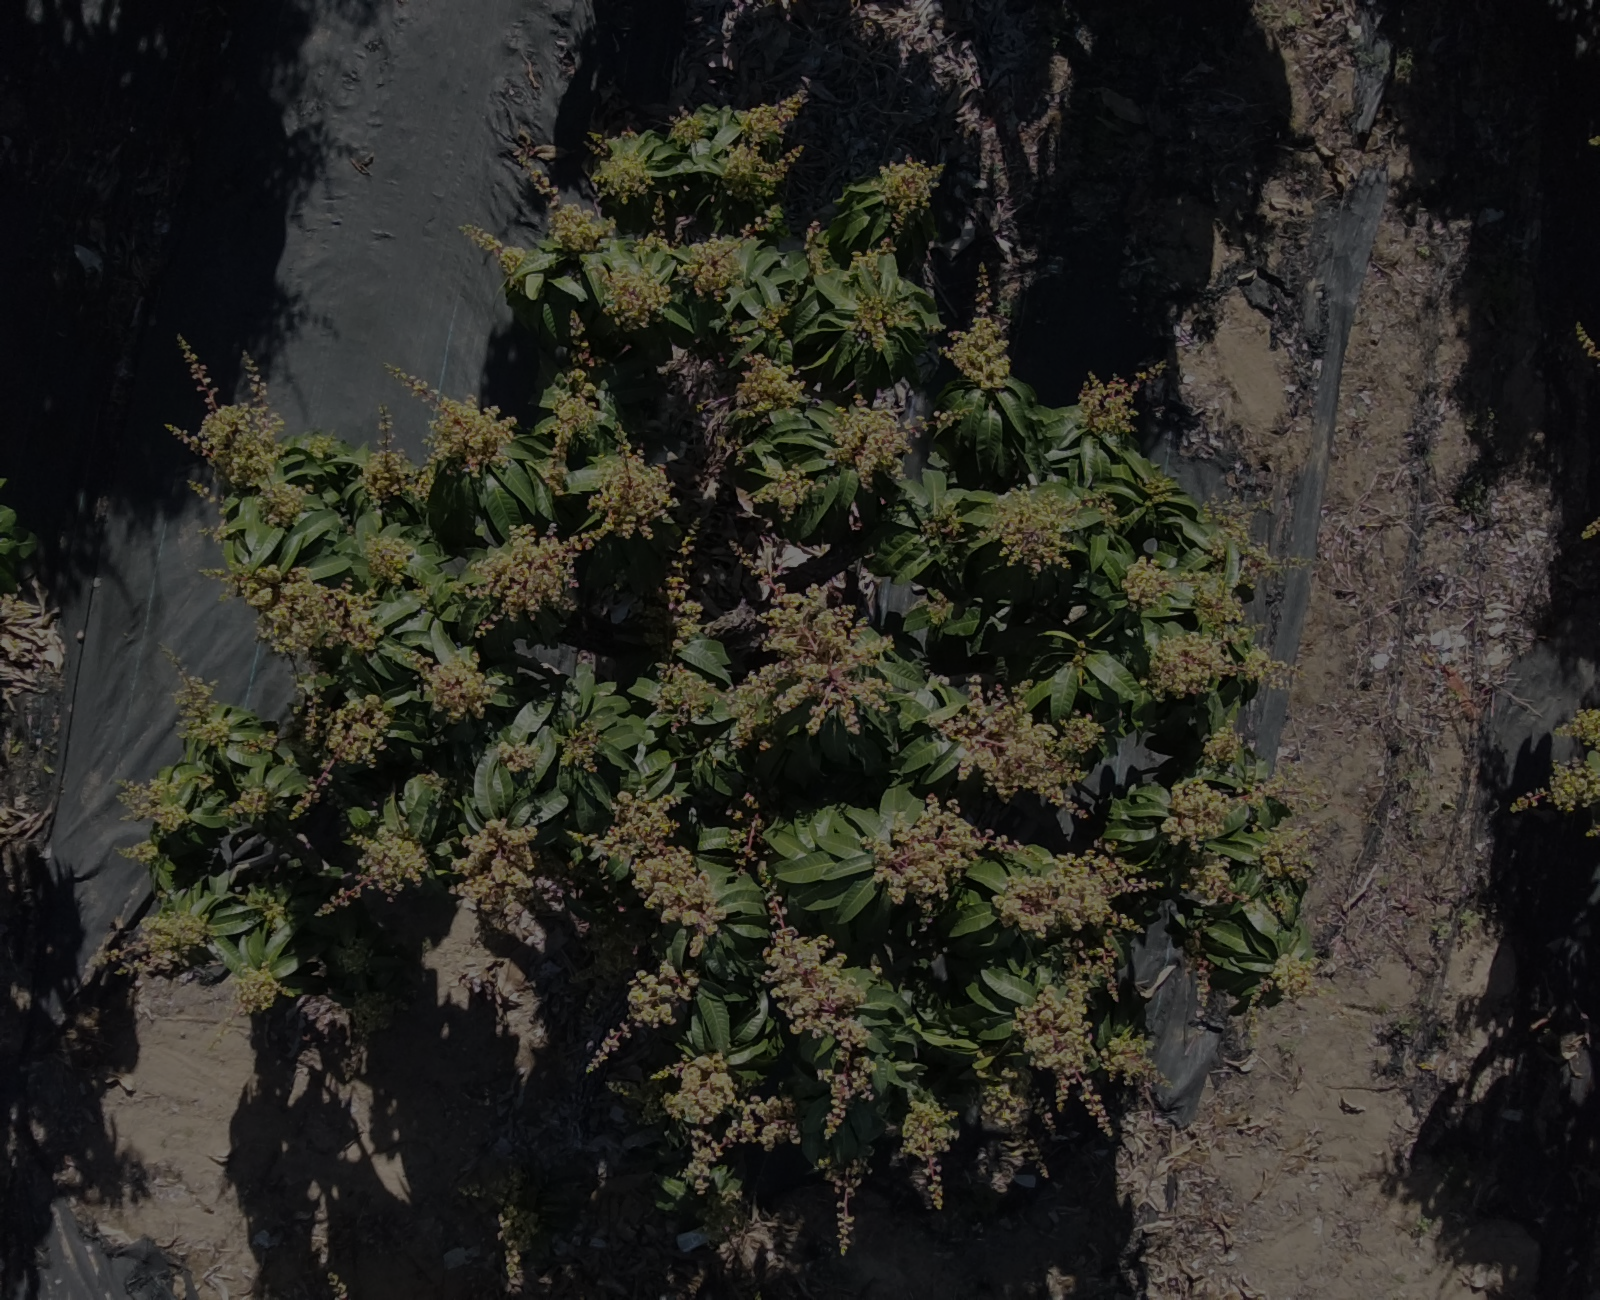flowers: (471, 446, 675, 619), (726, 581, 892, 749), (170, 337, 302, 524), (763, 925, 873, 1138), (580, 791, 723, 952), (939, 677, 1102, 809), (1014, 980, 1156, 1132), (1122, 558, 1275, 696), (651, 1053, 797, 1193), (386, 363, 515, 497), (872, 795, 1018, 913), (214, 565, 379, 653), (992, 852, 1148, 937), (586, 960, 697, 1073), (291, 692, 391, 814), (513, 130, 612, 252), (988, 486, 1117, 572), (831, 387, 927, 488), (320, 824, 429, 913), (540, 310, 598, 470), (720, 92, 805, 200), (1162, 777, 1282, 846), (588, 446, 675, 539), (945, 265, 1010, 387), (980, 1071, 1045, 1193), (452, 820, 535, 913), (101, 911, 210, 972), (901, 1093, 957, 1208), (1077, 362, 1164, 434), (732, 533, 828, 597), (496, 1167, 540, 1289), (423, 653, 496, 720), (877, 157, 941, 227), (1510, 760, 1597, 811), (601, 267, 669, 330), (590, 133, 653, 202), (174, 671, 230, 746), (825, 1158, 868, 1254), (736, 354, 803, 414), (655, 662, 716, 726), (117, 775, 187, 829), (850, 294, 914, 352), (728, 791, 766, 883), (685, 236, 740, 296), (754, 463, 815, 517), (175, 334, 218, 410), (460, 226, 525, 275), (665, 573, 703, 653), (1121, 557, 1177, 609), (1182, 856, 1240, 903), (1260, 826, 1312, 879), (233, 967, 281, 1013), (366, 537, 413, 584), (998, 249, 1035, 306), (1181, 929, 1211, 998), (243, 883, 287, 929), (559, 722, 598, 771), (1271, 952, 1313, 998), (1556, 708, 1597, 749), (921, 500, 961, 541), (803, 220, 831, 275), (496, 740, 540, 773), (1202, 724, 1240, 761), (850, 237, 893, 271), (669, 107, 703, 145), (230, 787, 271, 817), (336, 938, 370, 972), (755, 301, 789, 334), (1144, 472, 1178, 503), (1575, 321, 1597, 365), (923, 590, 953, 623), (326, 1272, 348, 1297), (763, 0, 797, 12), (1581, 517, 1597, 540)
